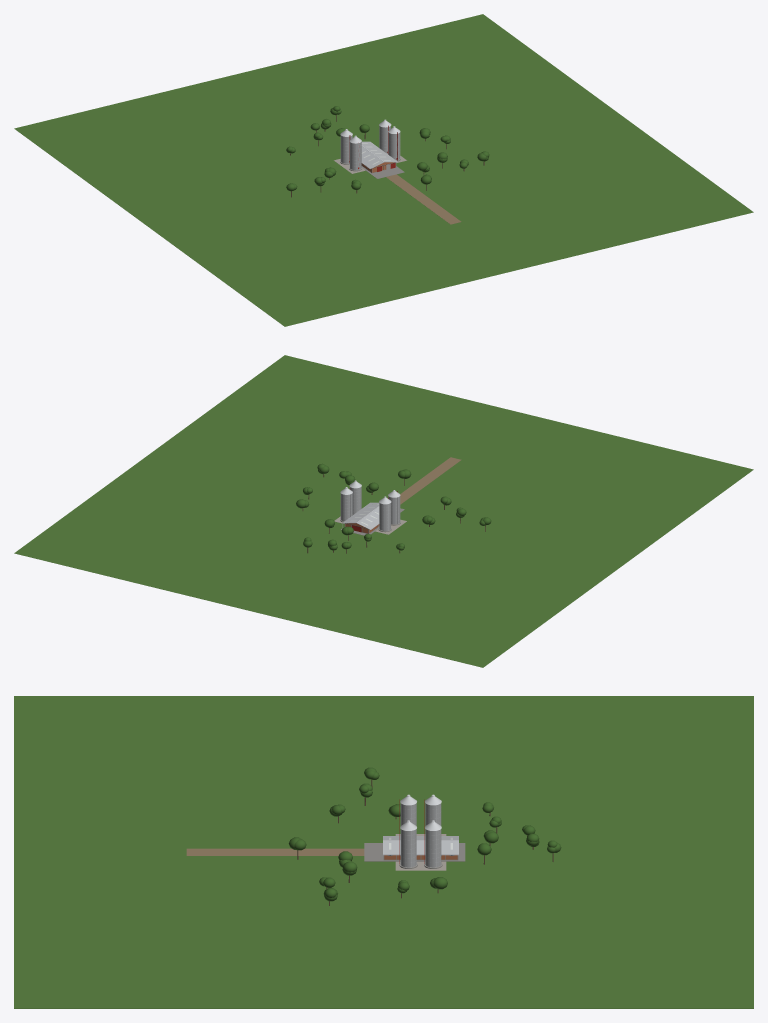
Rendered from bodega.glb.
The picture shows the model from 3 angles, top to bottom: view 1: azimuth 30°, elevation 25°; view 2: azimuth 150°, elevation 25°; view 3: azimuth 270°, elevation 25°; orthographic projection. The views are drawn at different scales.
Parts seen in each view (by area): view 1: Terreno_pasto, Arboles_copas, Silos_cuerpo, Via_acceso, Cubierta_lamina; view 2: Terreno_pasto, Arboles_copas, Silos_cuerpo, Via_acceso, Silos_conos_anillos, Cubierta_lamina; view 3: Terreno_pasto, Arboles_copas, Silos_cuerpo, Via_acceso, Silos_conos_anillos, Cubierta_lamina, Plataforma_concreto.
Boxes of the visible parts, x1,y1,x2,y2 form: Terreno_pasto: (14, 14, 753, 326); Arboles_copas: (286, 106, 489, 191); Silos_cuerpo: (340, 126, 399, 170); Via_acceso: (386, 174, 461, 224); Cubierta_lamina: (361, 141, 397, 168); Terreno_pasto: (14, 355, 753, 667); Arboles_copas: (296, 463, 491, 550); Silos_cuerpo: (340, 487, 399, 530); Via_acceso: (400, 457, 461, 504); Silos_conos_anillos: (340, 480, 400, 530); Cubierta_lamina: (343, 502, 379, 529); Terreno_pasto: (14, 696, 753, 1008); Arboles_copas: (288, 767, 561, 901); Silos_cuerpo: (400, 803, 441, 867); Via_acceso: (186, 848, 364, 855); Silos_conos_anillos: (400, 794, 441, 866); Cubierta_lamina: (383, 836, 458, 854); Plataforma_concreto: (364, 843, 465, 861).
Size of the model in its own units: 300 by 20.15 by 300.
